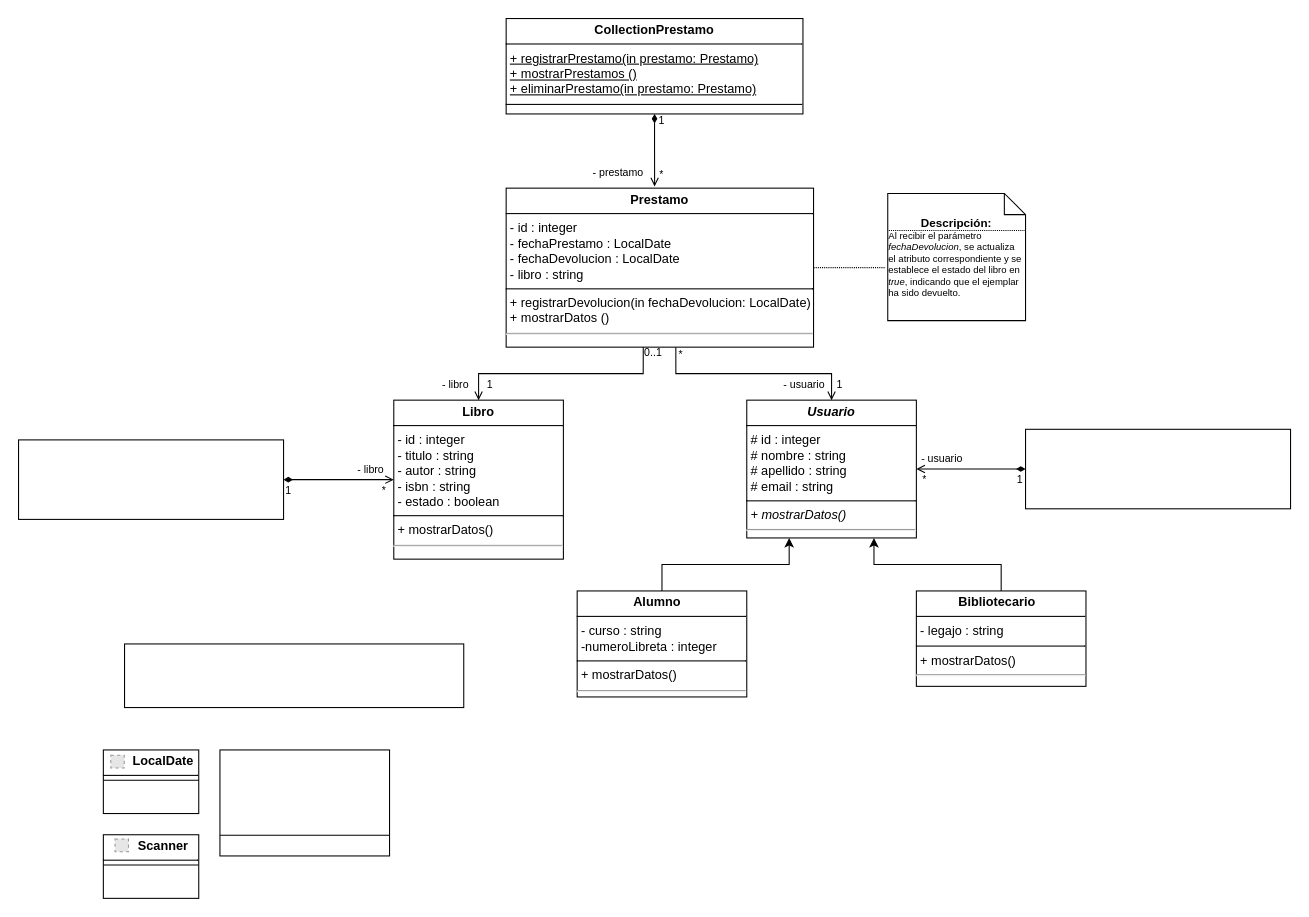
The diagram is 1309 pixels wide and 917 high, and some of its shapes have lost their labels. Grey dashed boxes stand in for pictures. Each missing label, with the box of its shape:
CollectionLibro + registrarLibro(in libro: Libro) + mostrarLibros(): (17, 439, 284, 519)
CollectionUsuario + registrarUsuario(in usuario: Usuario) + mostrarUsuarios (): (1024, 428, 1291, 509)
FechaUtil + convertirStringLocalDate(in fechaStr: string): LocalDate: (123, 643, 464, 708)
Principal - sc : Scanner main(): (219, 749, 390, 856)
